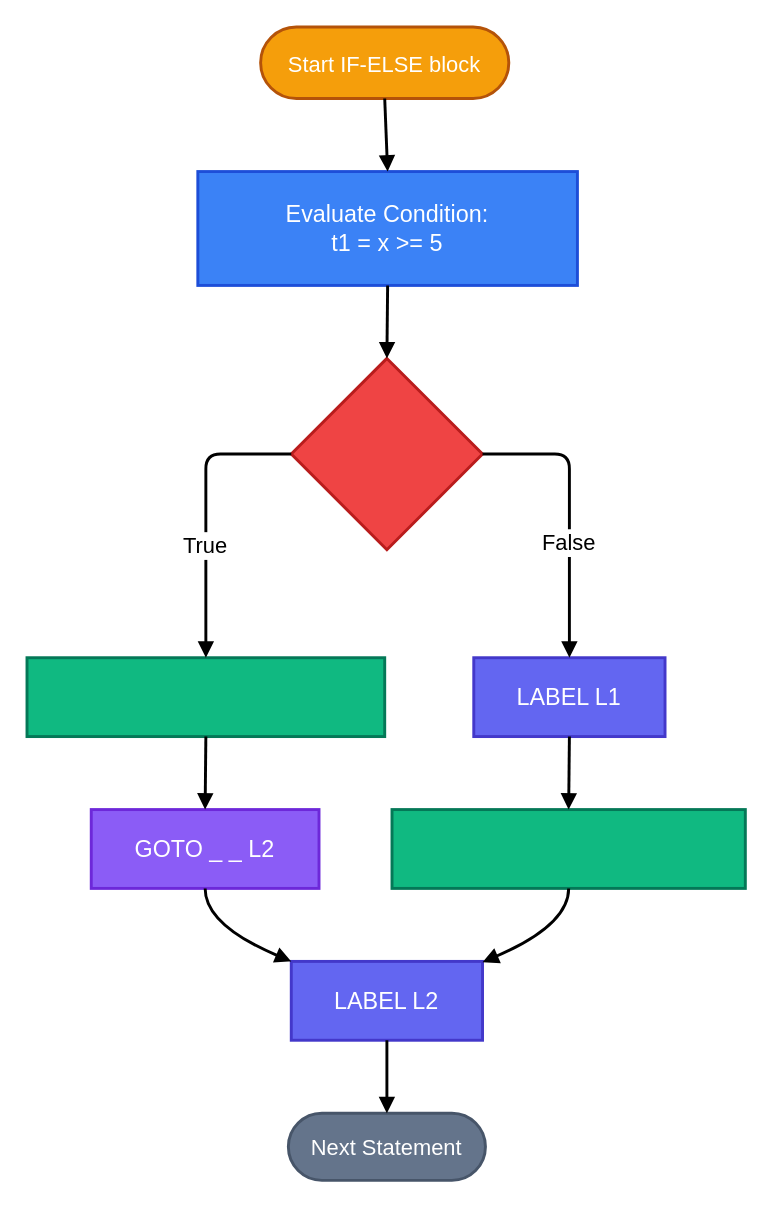
Image size: 771x1206. Some labels were removed from this diagram. Each missing label, with the centre of its shape:
ELSE Body: result = x + 1: [568,848]
IFF t1 _ L1: [386,453]
THEN Body: result = x * 2: [205,696]
